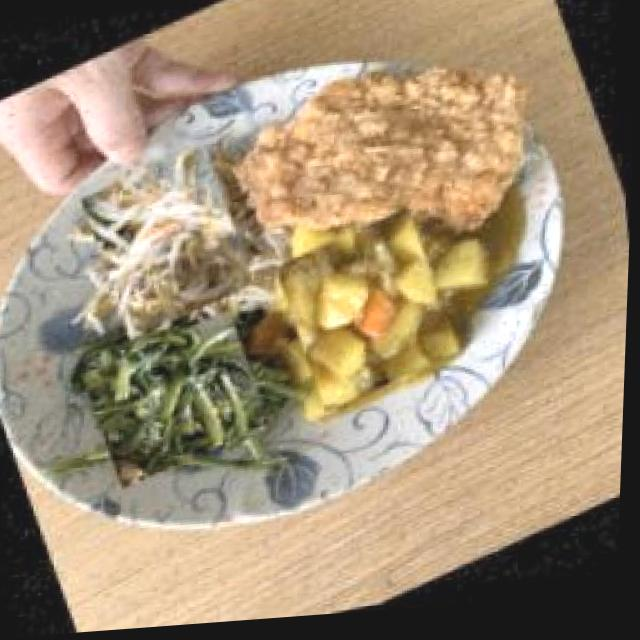curry: (265, 207, 474, 422)
fried_chicken: (219, 9, 560, 297)
mung_bean_sprouts: (70, 142, 268, 346)
water_spinach: (75, 303, 281, 495)
